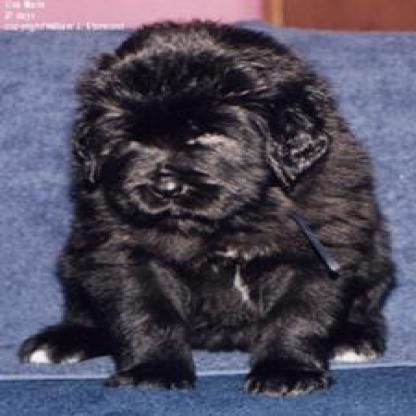Tibetan_mastiff: (7, 12, 400, 398)
